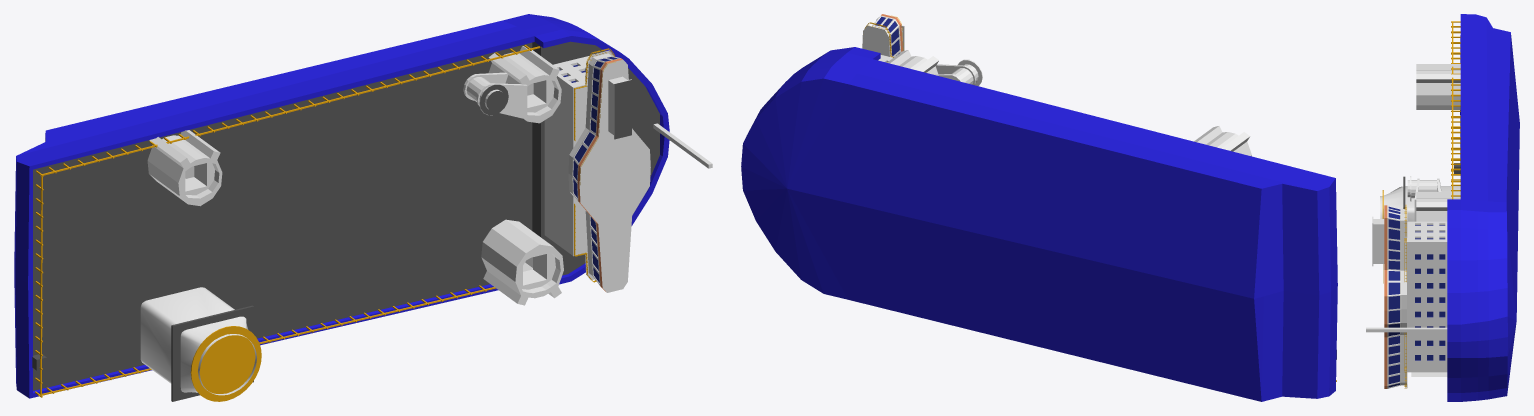
The model's file is main.glb.
The picture shows the model from 3 angles, left to right: view 1: azimuth 30°, elevation 25°; view 2: azimuth 150°, elevation 25°; view 3: azimuth 270°, elevation 25°; orthographic projection. The views are drawn at different scales.
Visible parts, largest first — view 1: SEP_base; view 2: SEP_base; view 3: SEP_base.
Boxes of the visible parts, x1=… form: SEP_base: x1=14, y1=14, x2=712, y2=401; SEP_base: x1=741, y1=14, x2=1337, y2=401; SEP_base: x1=1366, y1=14, x2=1519, y2=401.
Bounding box in the file's own units: 142 × 53.32 × 38.5.
